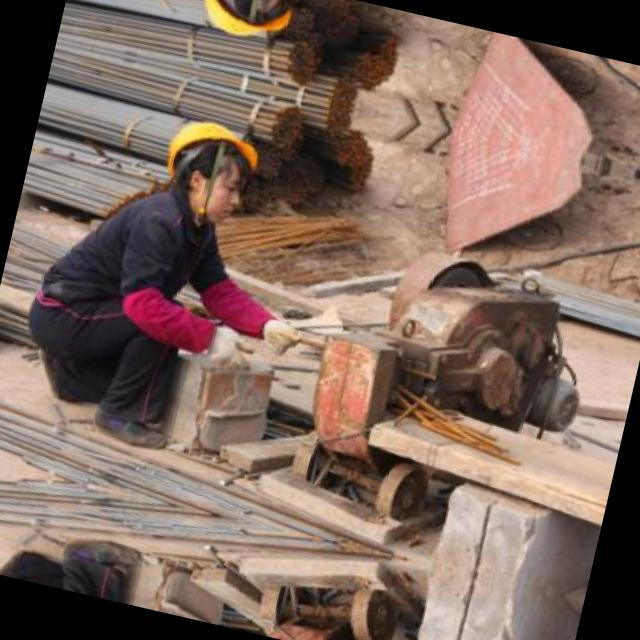helmet: (138, 95, 280, 234), (177, 0, 311, 64)
